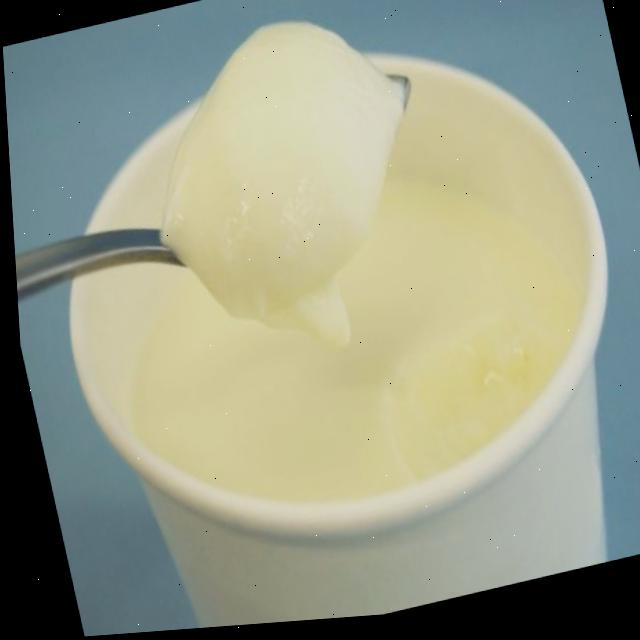熟制海鲜: (3, 37, 640, 550)
